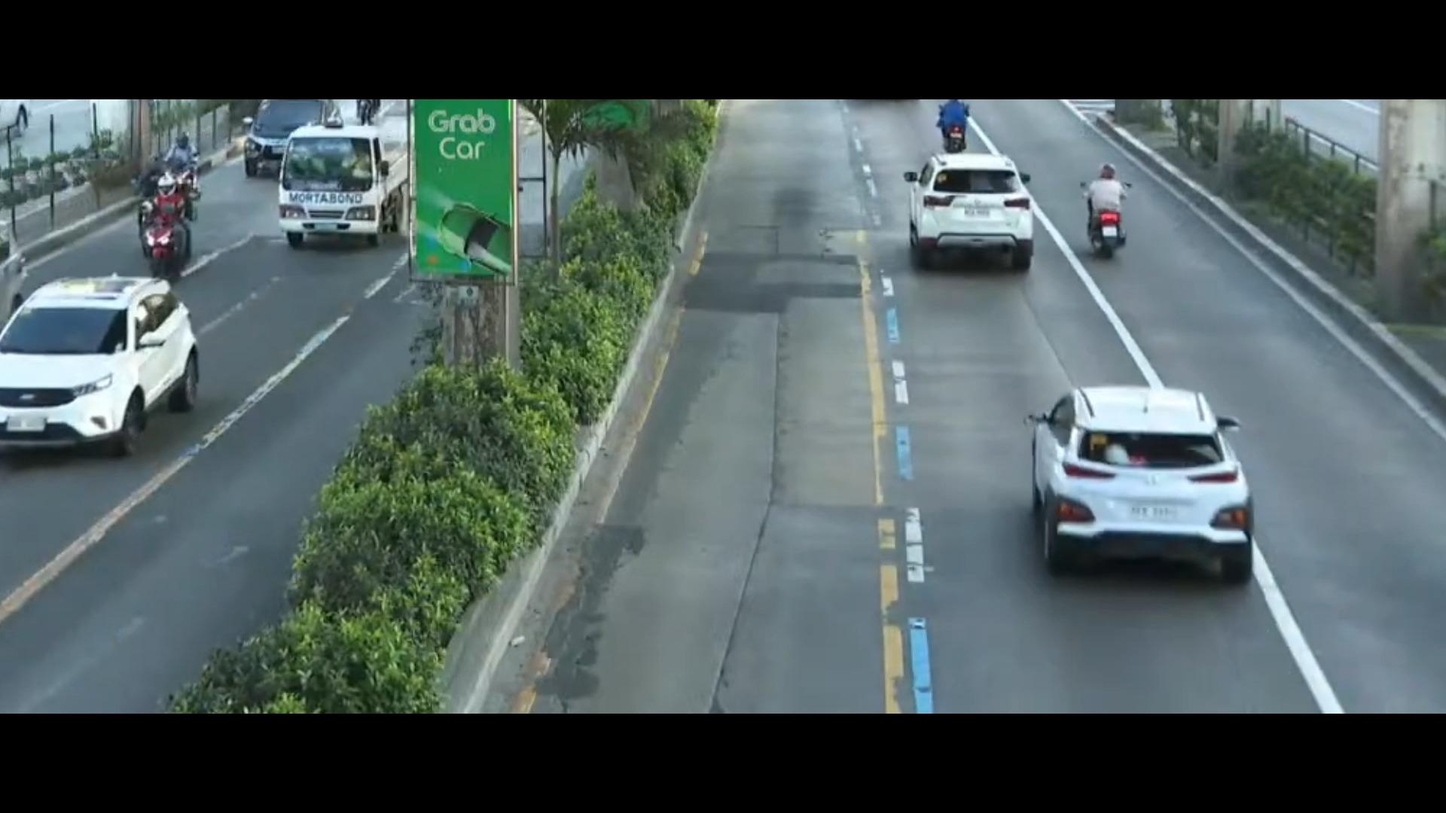Motorcycle: (1077, 126, 1162, 265), (131, 172, 194, 271), (154, 125, 221, 194), (925, 96, 983, 171)
SUV: (1010, 349, 1292, 584), (0, 254, 232, 477), (880, 134, 1071, 289)
Truck: (259, 111, 413, 259)
